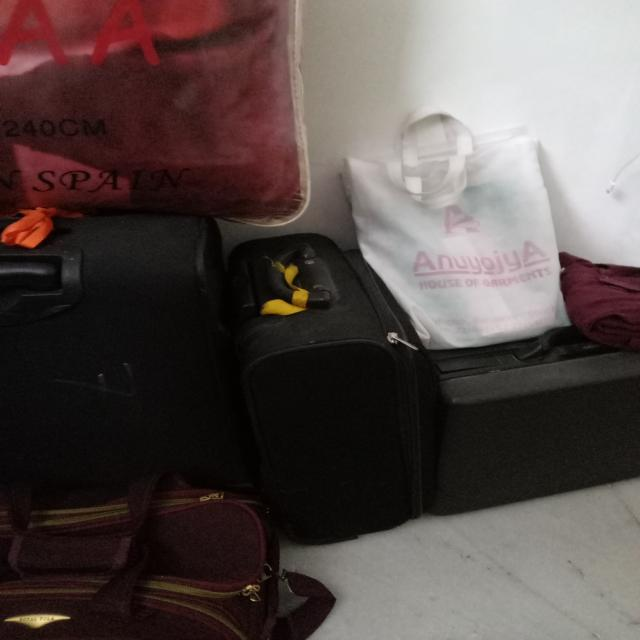suitcaserotation: (0, 202, 261, 500), (220, 227, 447, 548), (0, 459, 340, 638), (419, 319, 639, 518)
